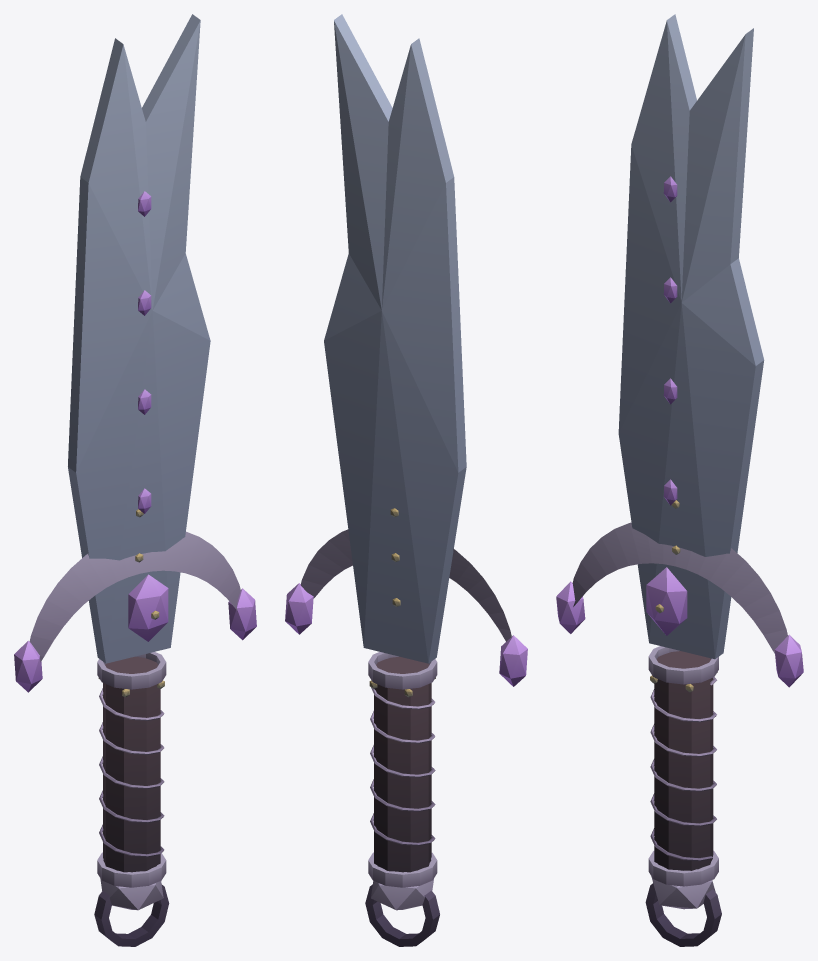
Rendered from espada_filo_eclipse.glb.
3 renders of one model, left to right at view 1: azimuth 30°, elevation 25°; view 2: azimuth 150°, elevation 25°; view 3: azimuth 330°, elevation 25°, orthographic.
Parts seen in each view (by area): view 1: espada_filo_eclipse_finished; view 2: espada_filo_eclipse_finished; view 3: espada_filo_eclipse_finished.
Part boxes in pixels (x1=…): espada_filo_eclipse_finished: x1=14, y1=14, x2=256, y2=946; espada_filo_eclipse_finished: x1=285, y1=14, x2=527, y2=946; espada_filo_eclipse_finished: x1=556, y1=14, x2=803, y2=946.
Size of the model in its own units: 0.4801 by 1.75 by 0.1462.
Materials: 2 (2 with a texture image).
